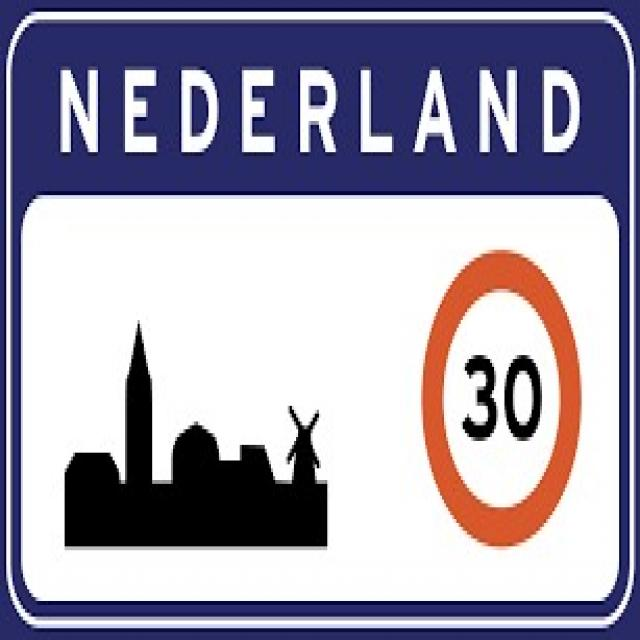speed_limit_30: (408, 242, 592, 559)
